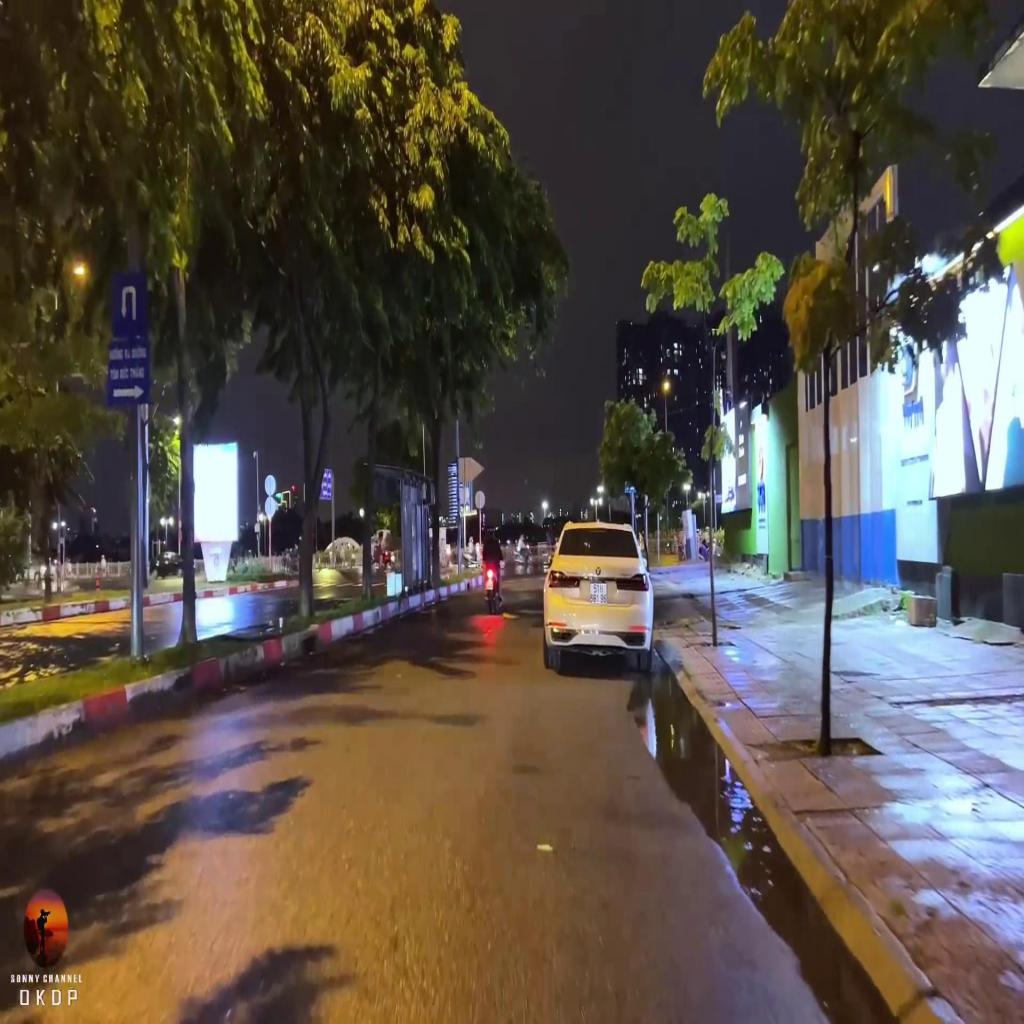cho_quay_xe: (112, 274, 147, 339)
khac: (106, 342, 152, 409)
